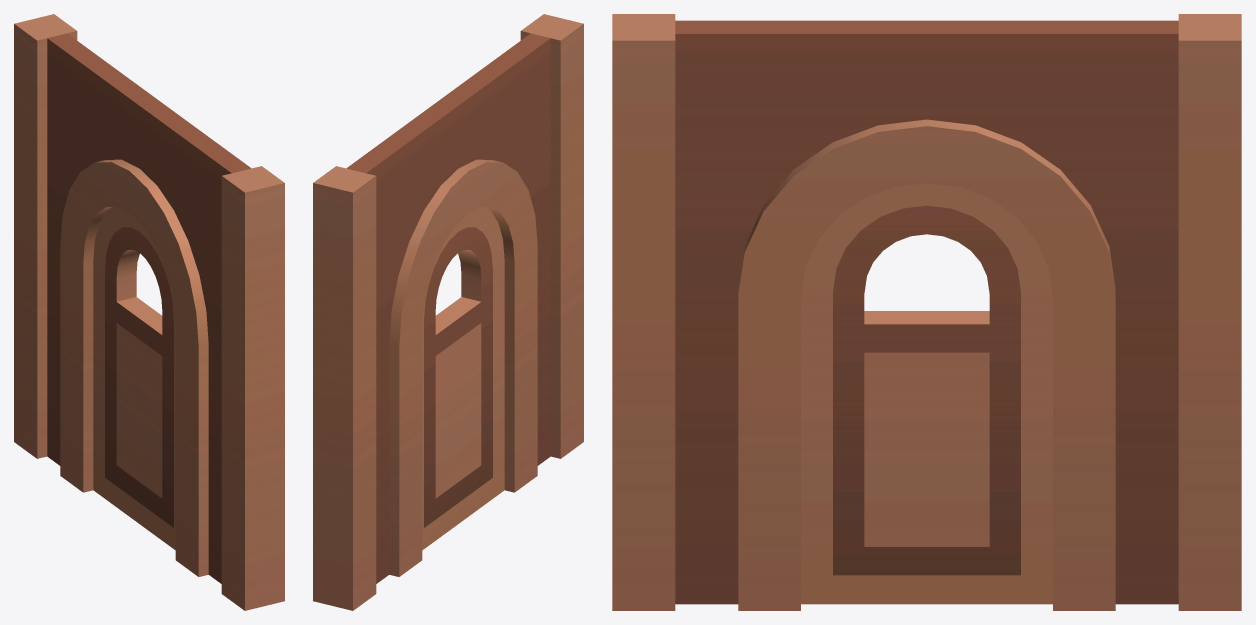
Rendered from wall-wood-door.glb.
3 renders of one model, left to right at view 1: azimuth 30°, elevation 25°; view 2: azimuth 150°, elevation 25°; view 3: azimuth 270°, elevation 25°, orthographic. The views are drawn at different scales.
Visible parts, largest first — view 1: wall-wood-door, door; view 2: wall-wood-door, door; view 3: wall-wood-door, door.
Part boxes in pixels (x1,y1,x2,y2): wall-wood-door: [14, 14, 284, 610]; door: [93, 207, 175, 550]; wall-wood-door: [313, 14, 583, 610]; door: [422, 207, 504, 550]; wall-wood-door: [612, 14, 1241, 610]; door: [801, 183, 1052, 604].
Bounding box in the file's own units: 0.1 × 1 × 1.
1 material, 1 textured.
